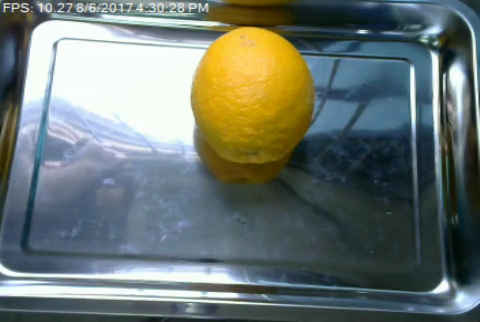Orange: (190, 25, 315, 162)
